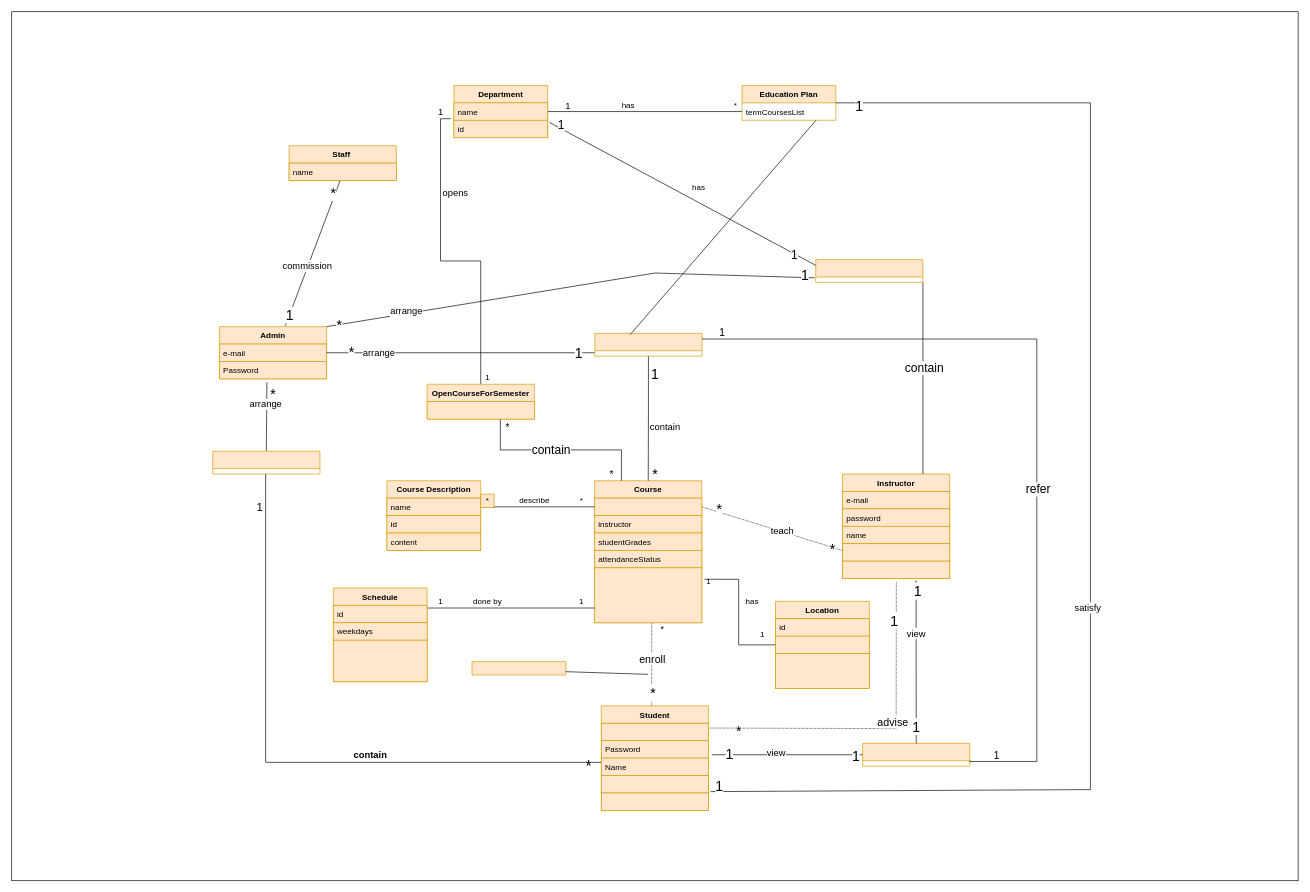
Some shapes in this 1310 by 892 pixel diagram are drawn without their labels. Each missing label, with the centre of its shape:
"advisor" belongs at [655,801].
"building" belongs at [822,644].
"classroom courseInLocation" belongs at [822,670].
"courseId" belongs at [648,506].
"courses catalog" belongs at [648,344].
"Documents" belongs at [916,754].
"Email" belongs at [655,732].
"givenCourses" belongs at [896,569].
"Instructor Catalog" belongs at [869,270].
"instructorNo" belongs at [896,552].
"openCourseList" belongs at [480,410].
"RegisteredStudent" belongs at [518,668].
"schoolNumber" belongs at [655,784].
"startDate endDate" belongs at [380,661].
"student catalog" belongs at [266,462].
"term location schedule" belongs at [648,595].
